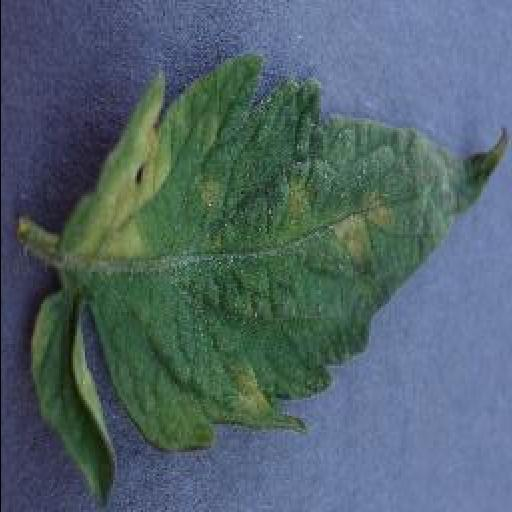disease_tomato: (32, 58, 510, 510)
